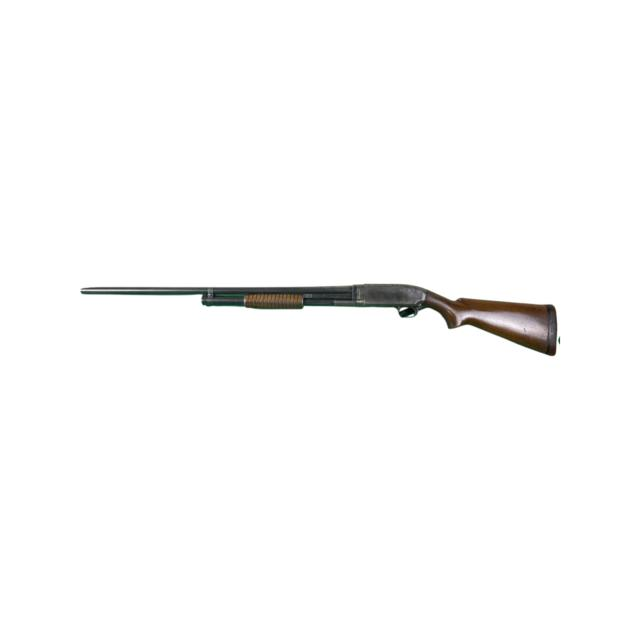ShotGun: (79, 284, 560, 358)
